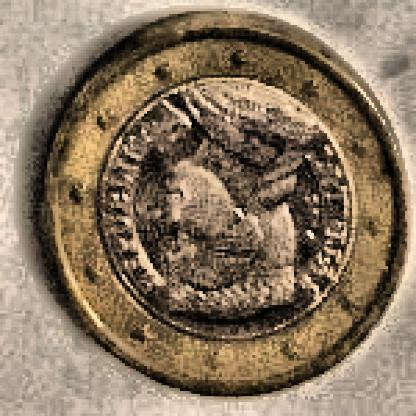coin: (46, 8, 413, 405)
